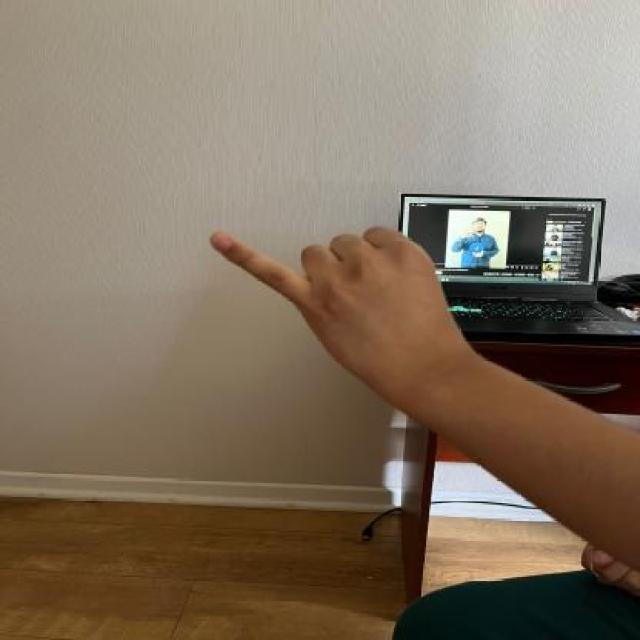J: (207, 202, 461, 382)
